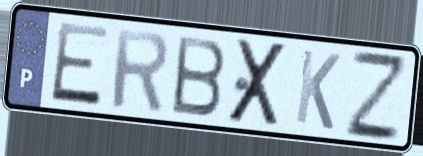B: (169, 32, 229, 120)
E: (47, 19, 112, 109)
K: (292, 46, 343, 133)
R: (109, 25, 171, 114)
X: (224, 36, 292, 129)
Z: (344, 46, 408, 144)
